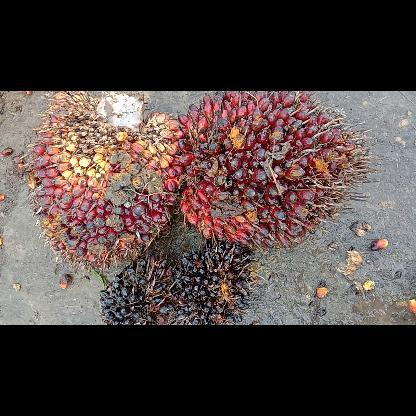TBS abnormal: (172, 240, 258, 324), (98, 254, 184, 324)
TBS masak: (174, 91, 378, 255), (21, 95, 190, 267)
